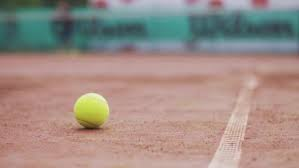tennis_ball: (73, 92, 109, 130)
